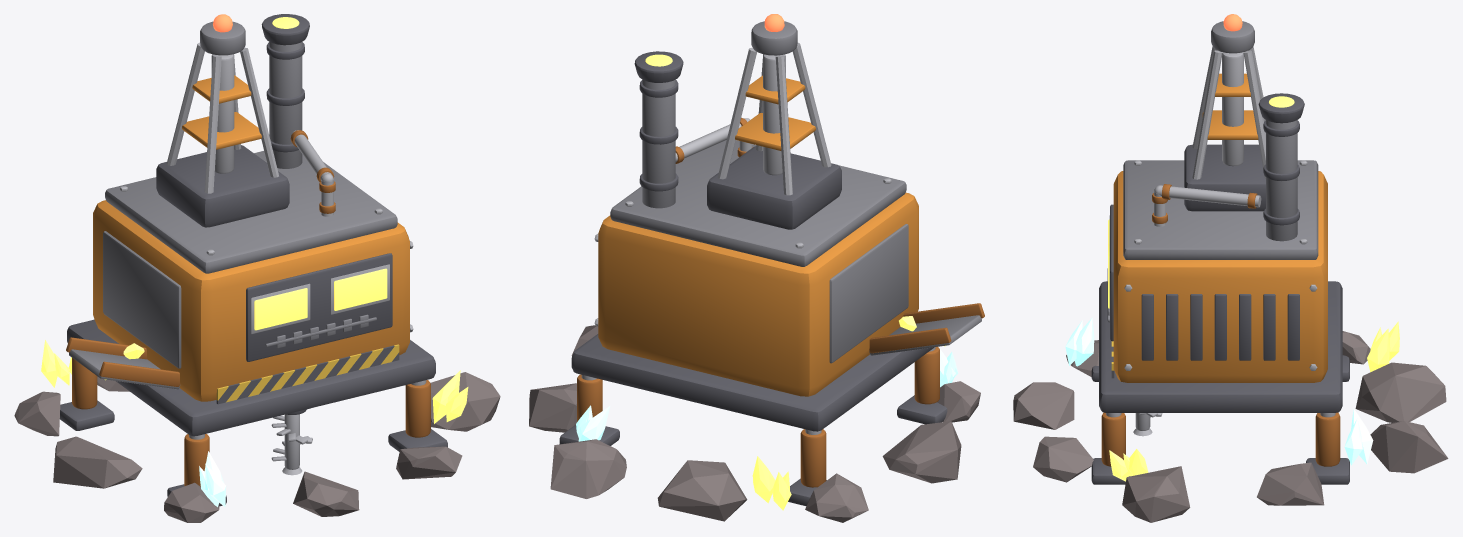
The model's file is Miner.glb.
3 renders of one model, left to right at view 1: azimuth 30°, elevation 25°; view 2: azimuth 150°, elevation 25°; view 3: azimuth 270°, elevation 25°, orthographic. The views are drawn at different scales.
Visible parts, largest first — view 1: Miner; view 2: Miner; view 3: Miner.
Part boxes in pixels (box(x1,y1,x2,y2)): Miner: box(14, 14, 500, 522); Miner: box(529, 14, 984, 522); Miner: box(1013, 14, 1448, 522).
Size of the model in its own units: 1.83 by 1.84 by 1.79.
